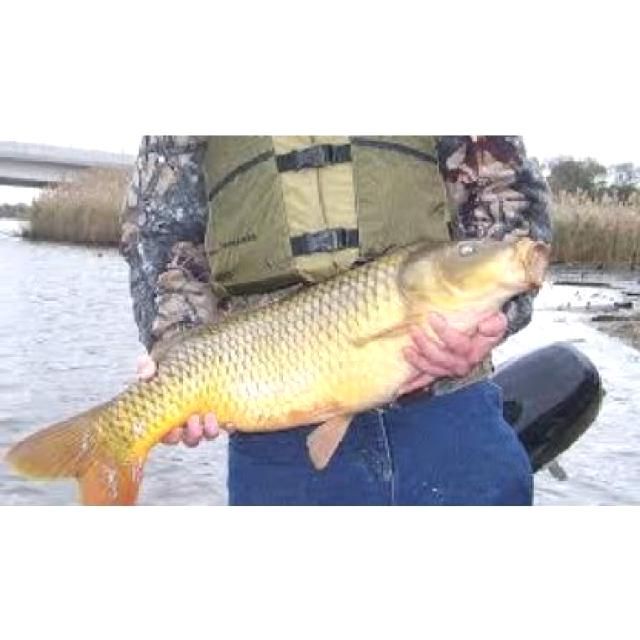ikan-mas: (9, 227, 548, 493)
